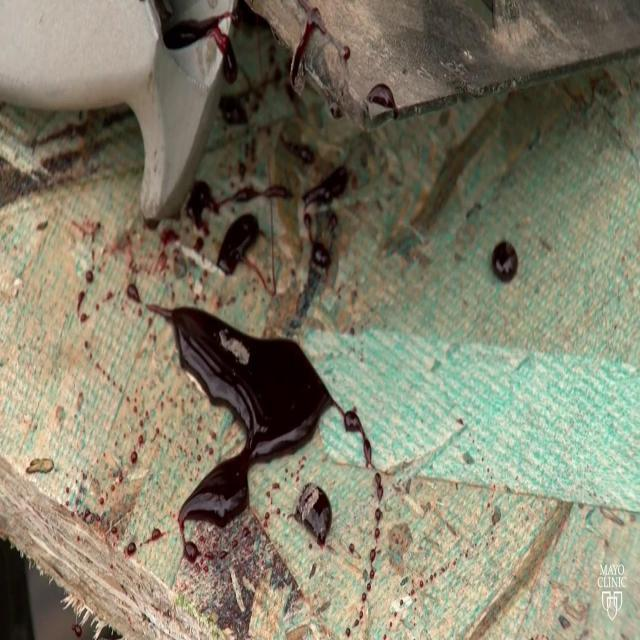flood: (163, 304, 340, 551)
